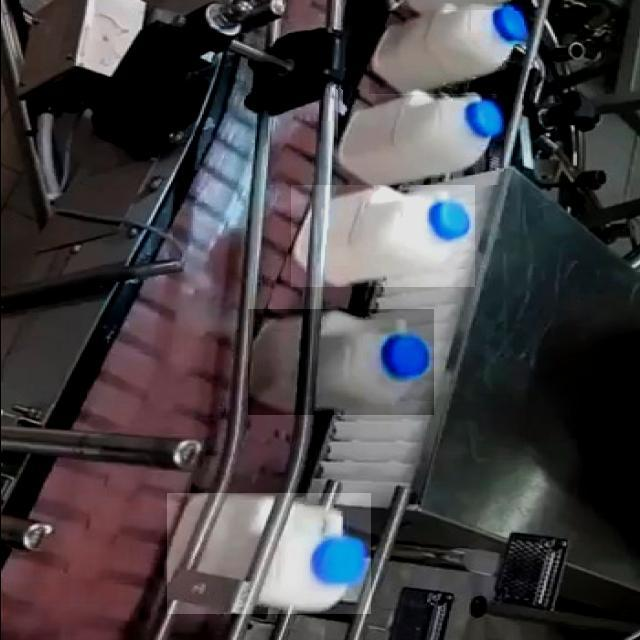blue: (171, 490, 376, 618), (248, 303, 436, 424), (296, 183, 479, 297), (336, 88, 509, 179), (371, 9, 526, 94)
